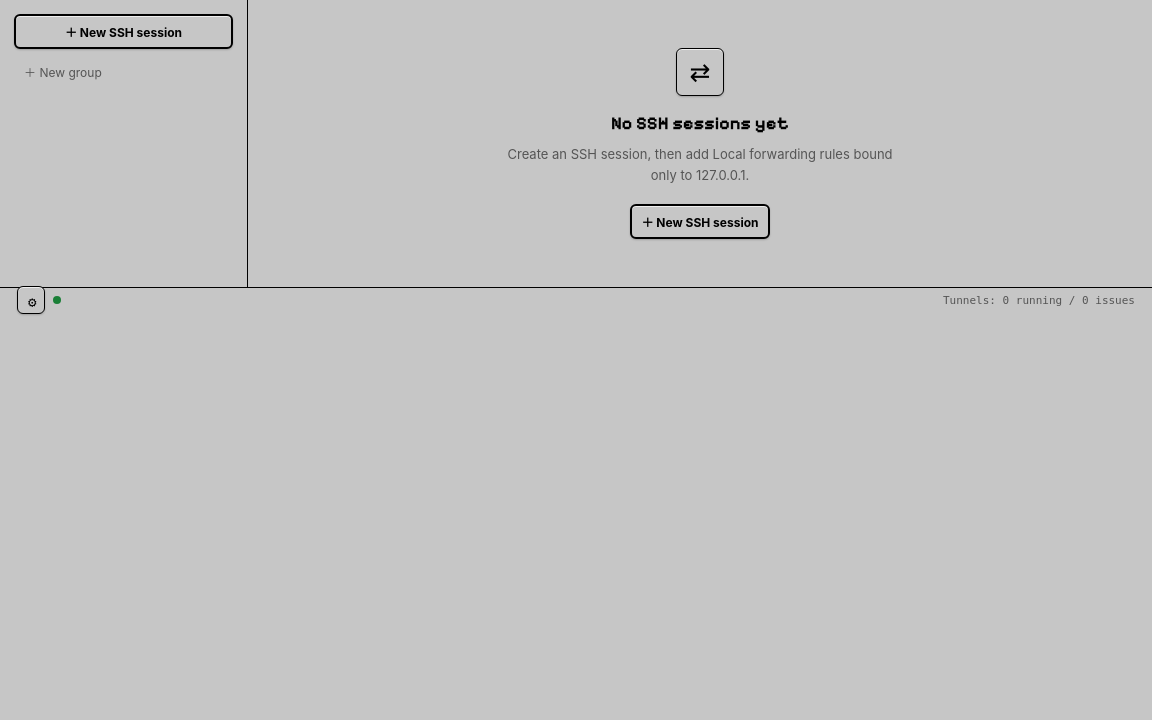
App › optimistically applies a preference and rolls back when its save fails
Click the button with test id "config-button" at (31, 300), box [17, 286, 45, 314]
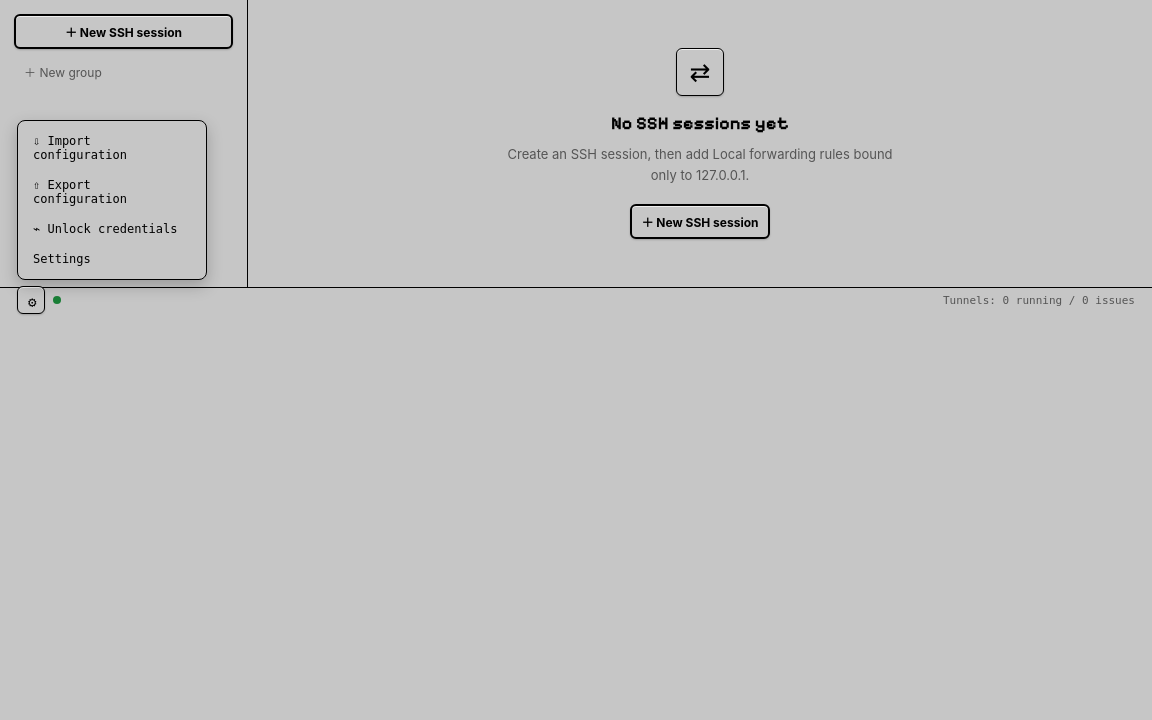
Click the menu item with test id "config-settings" at (112, 259), box [23, 244, 201, 274]
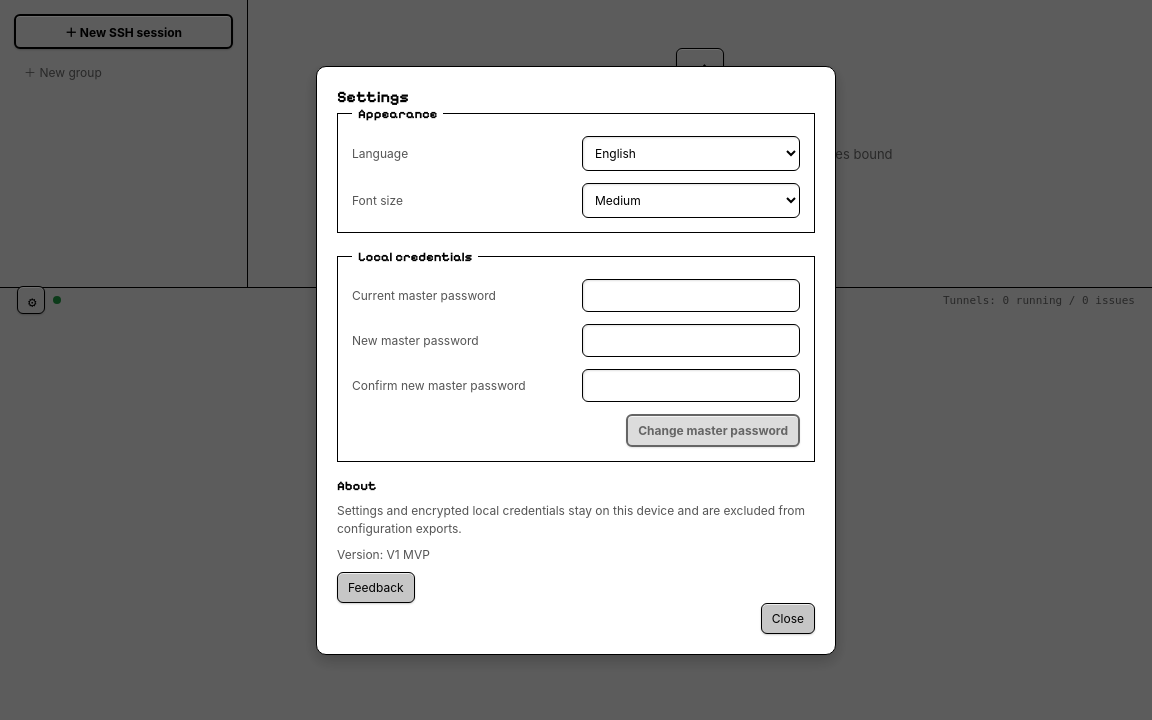
Select "Large" in the dropdown named "Font size" at (691, 200), box [582, 182, 800, 218]
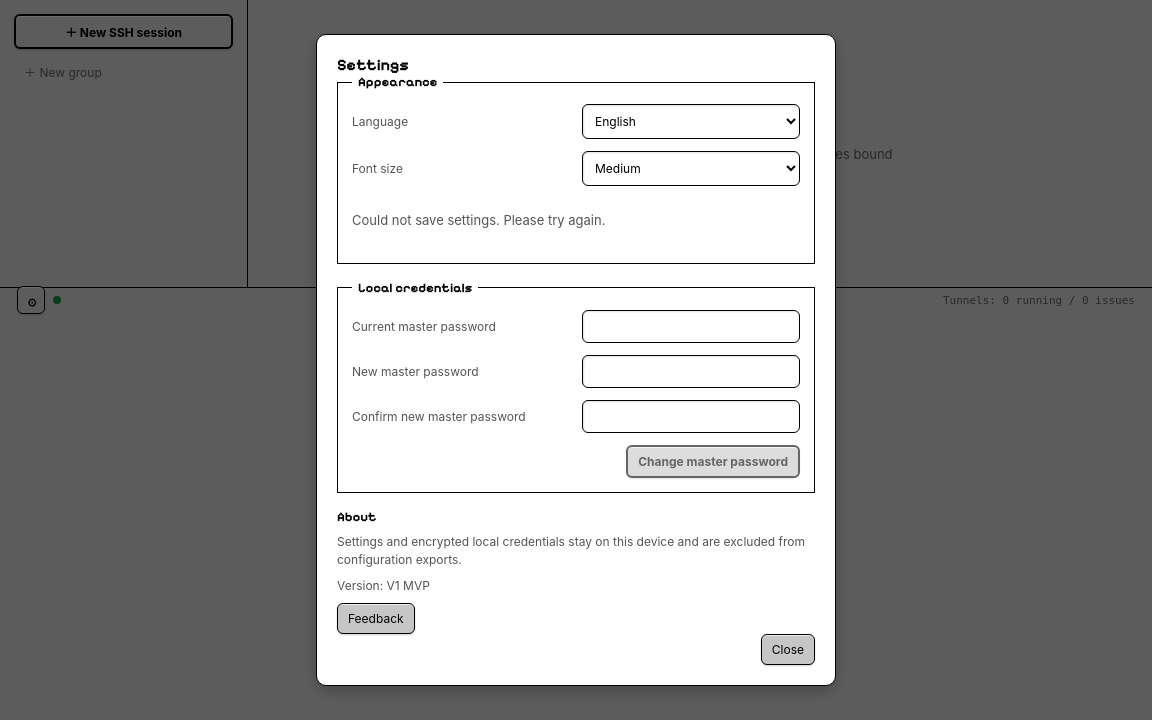
Expected: the dialog shows "Could not save settings. Please try again.", [352, 212, 605, 228]
